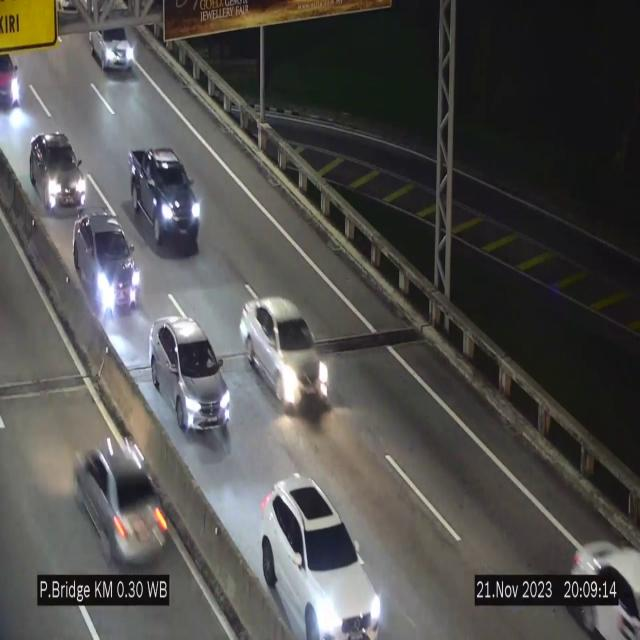Car: (261, 476, 381, 640), (68, 412, 178, 564), (240, 298, 328, 410), (149, 316, 229, 436), (566, 525, 640, 640), (70, 217, 142, 322), (130, 147, 202, 251), (30, 128, 92, 227), (77, 4, 139, 81), (0, 49, 24, 114)
